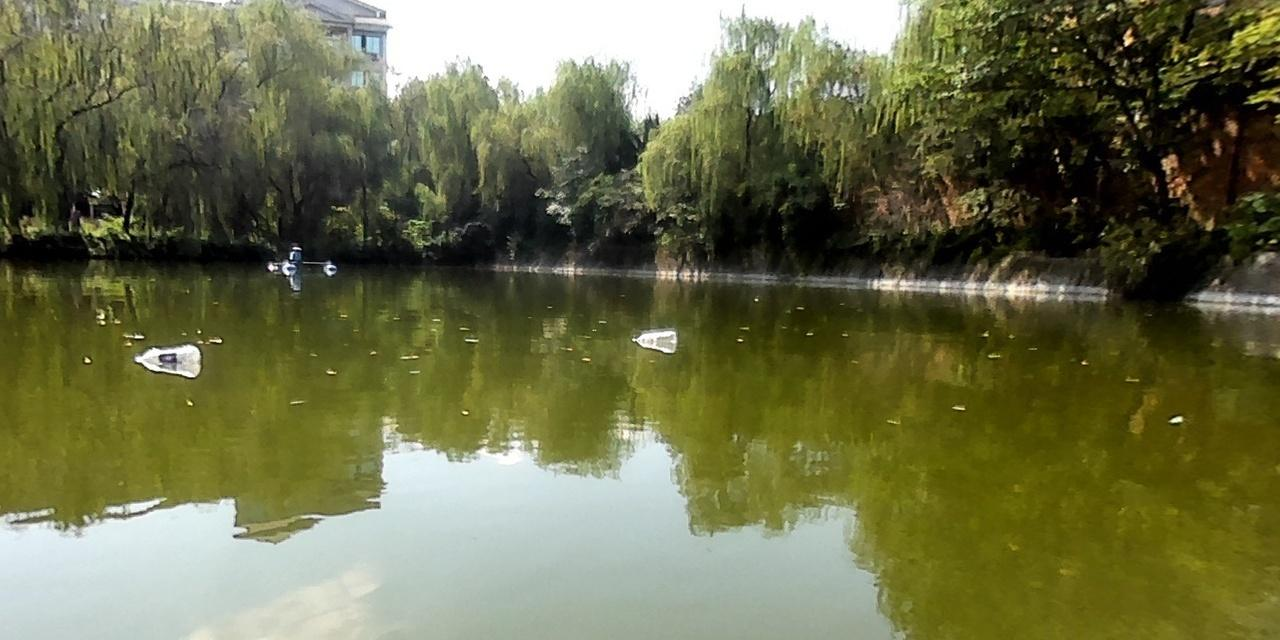bottle: (130, 340, 202, 366), (625, 329, 678, 347)
